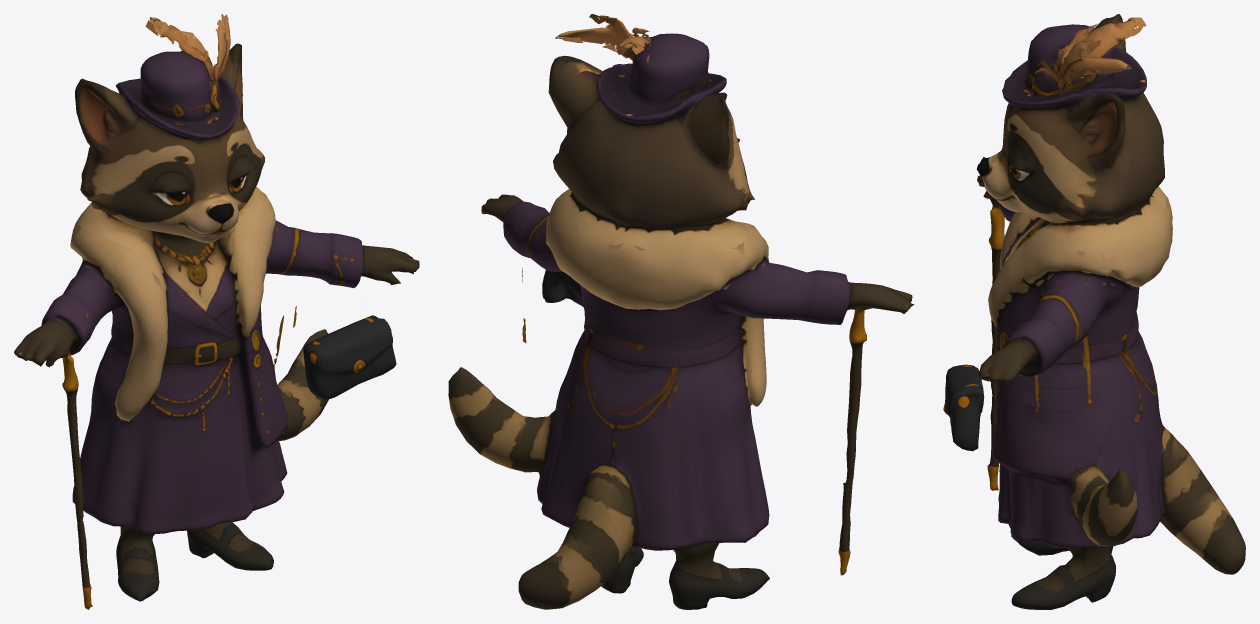
The model's file is penelope_mccrick_generated_v1.glb.
3 views of the same model, side by side, from view 1: azimuth 30°, elevation 25°; view 2: azimuth 150°, elevation 25°; view 3: azimuth 270°, elevation 25° (orthographic). The views are drawn at different scales.
Visible parts, largest first — view 1: tripo_node_3ca96b4b; view 2: tripo_node_3ca96b4b; view 3: tripo_node_3ca96b4b.
Part boxes in pixels (bbox=[...]): tripo_node_3ca96b4b: bbox=[14, 14, 419, 609]; tripo_node_3ca96b4b: bbox=[448, 14, 914, 609]; tripo_node_3ca96b4b: bbox=[943, 14, 1245, 609].
Size of the model in its own units: 0.7795 by 0.9953 by 0.4826.
1 material, 1 textured.
